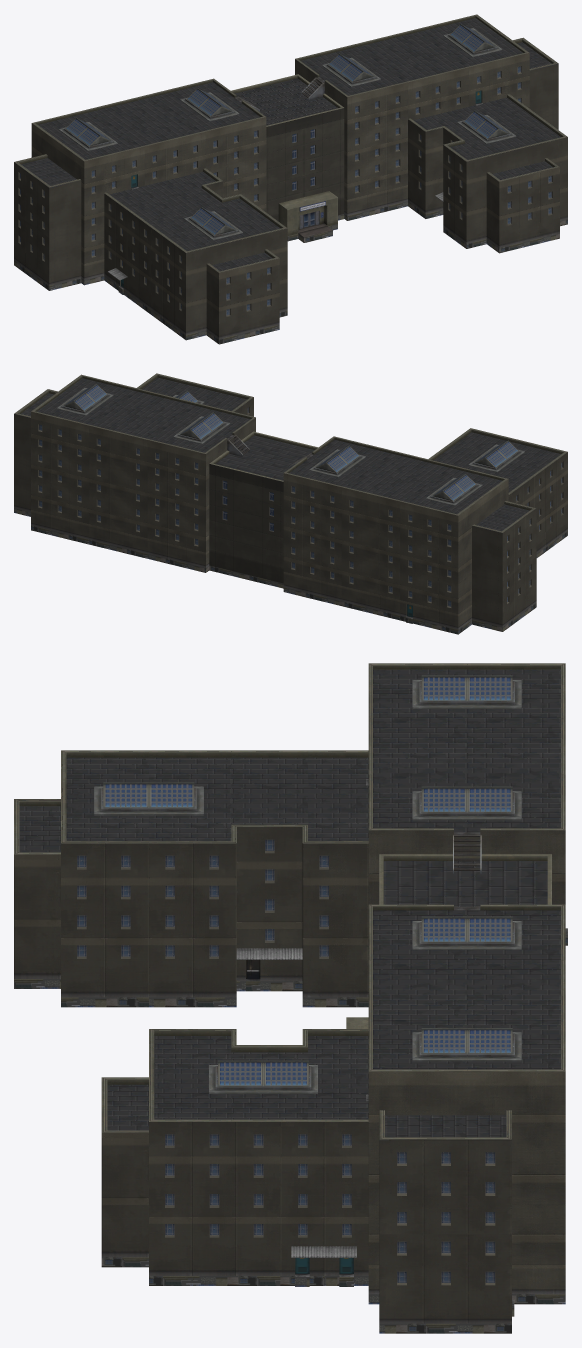
The model's file is MainJail.fbx.
3 views of the same model, one above another, from view 1: azimuth 30°, elevation 25°; view 2: azimuth 150°, elevation 25°; view 3: azimuth 270°, elevation 25° (orthographic). The views are drawn at different scales.
Visible parts, largest first — view 1: Prison; view 2: Prison; view 3: Prison.
Part boxes in pixels (left/top/right/bottom): Prison: left=14, top=14, right=567, bottom=344; Prison: left=14, top=373, right=567, bottom=634; Prison: left=14, top=663, right=567, bottom=1333.
Bounding box in the file's own units: 10067 × 2496 × 5047.
